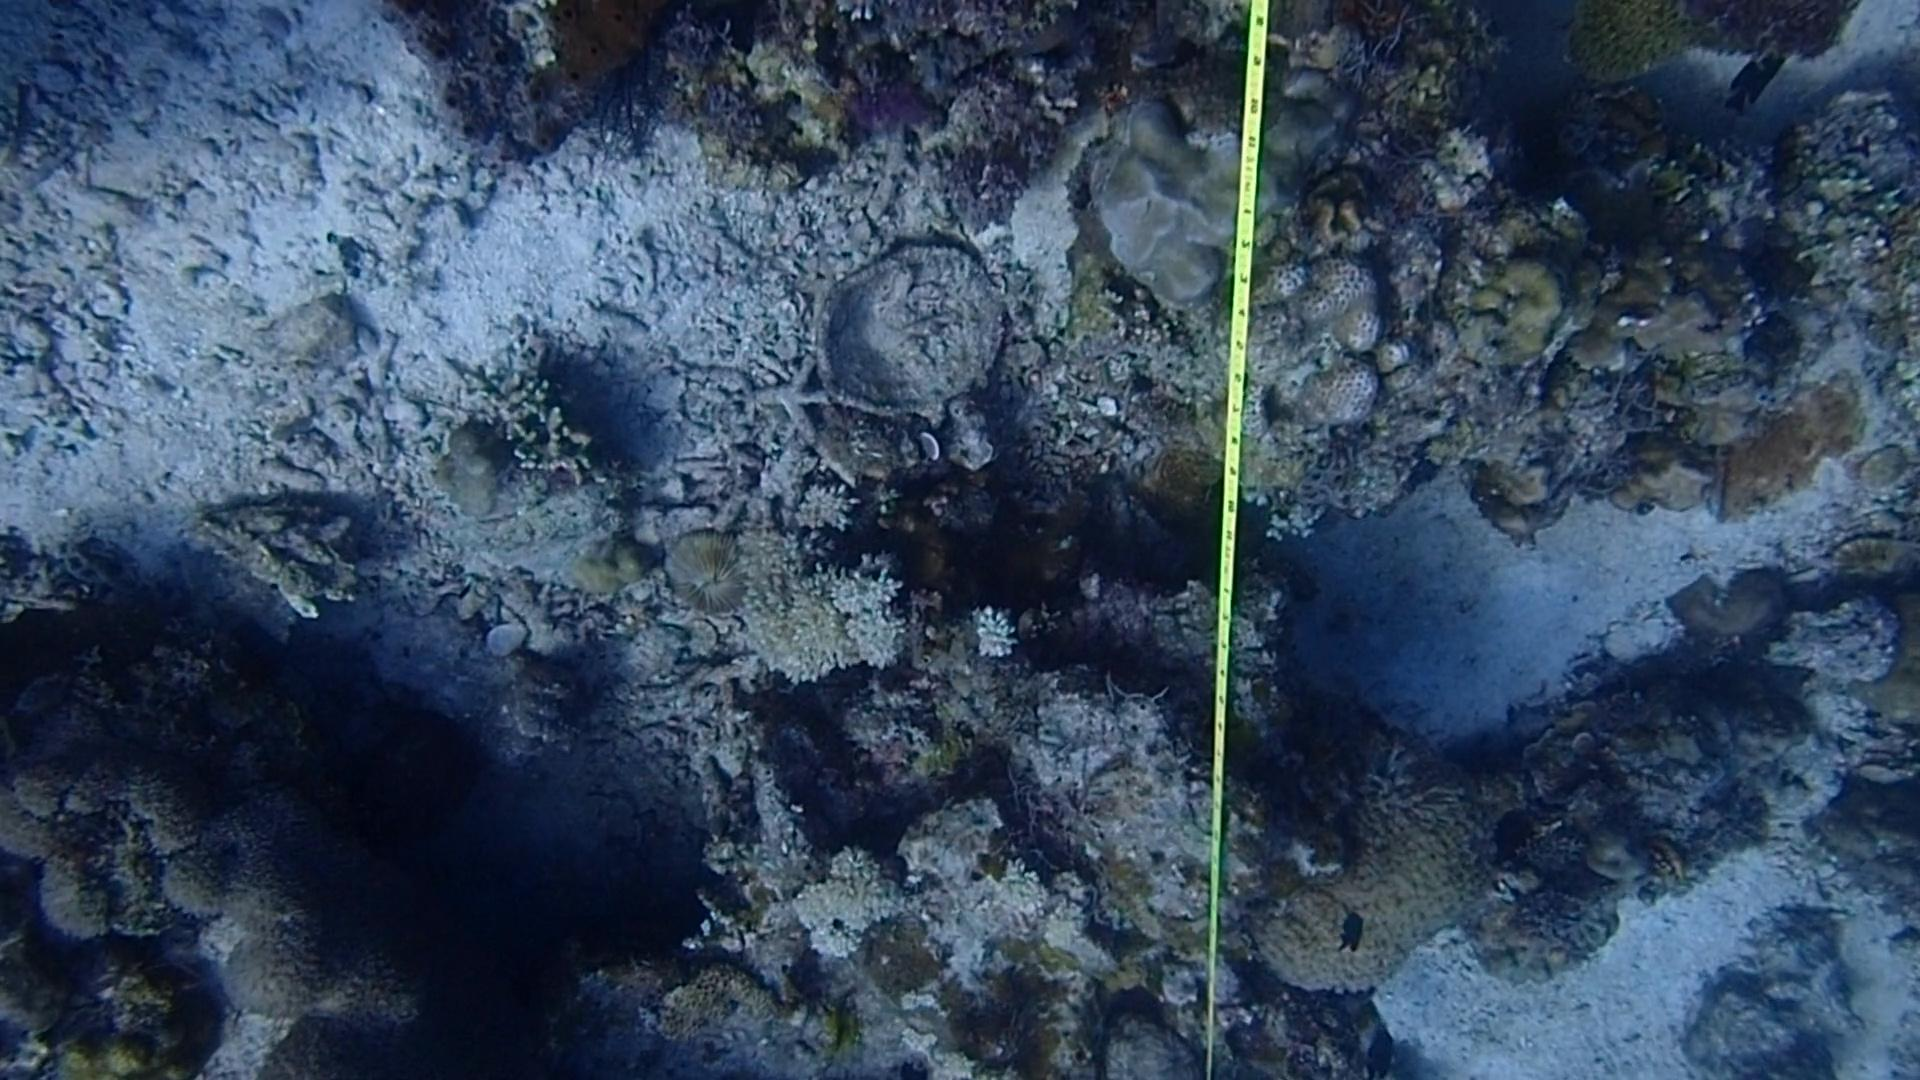Dark Fish: (1700, 42, 1791, 137), (1487, 800, 1543, 874), (1346, 1021, 1412, 1080), (1331, 906, 1377, 960)
